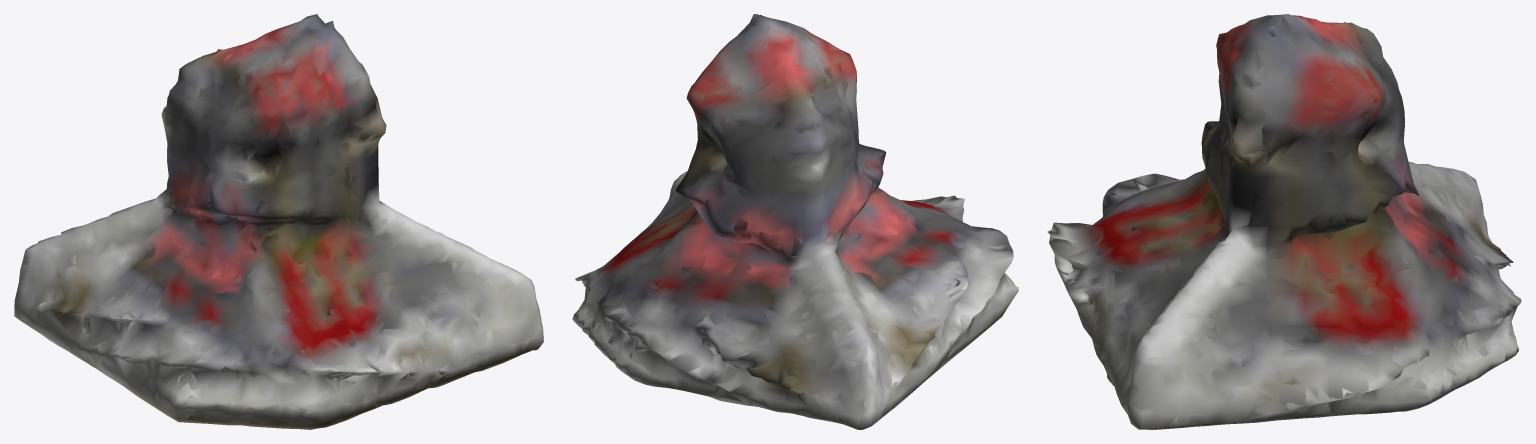
The model's file is soviet_nuclear_silo.glb.
The picture shows the model from 3 angles, left to right: view 1: azimuth 30°, elevation 25°; view 2: azimuth 150°, elevation 25°; view 3: azimuth 270°, elevation 25°; orthographic projection. The views are drawn at different scales.
Visible parts, largest first — view 1: soviet_nuclear_silo; view 2: soviet_nuclear_silo; view 3: soviet_nuclear_silo.
Boxes of the visible parts, x1,y1,x2,y2 form: soviet_nuclear_silo: (14,14,543,429); soviet_nuclear_silo: (572,14,1018,429); soviet_nuclear_silo: (1048,14,1521,429).
Size of the model in its own units: 1.79 by 1.46 by 1.86.
